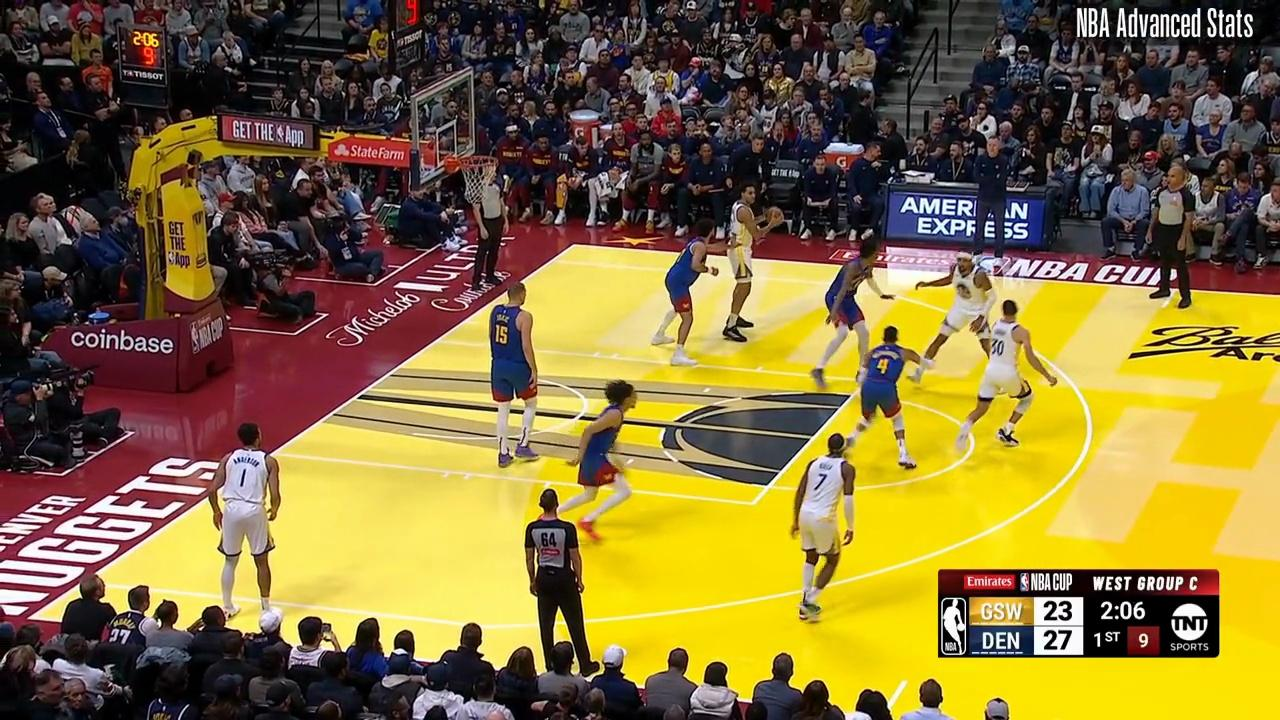basketball: (765, 207, 786, 227)
